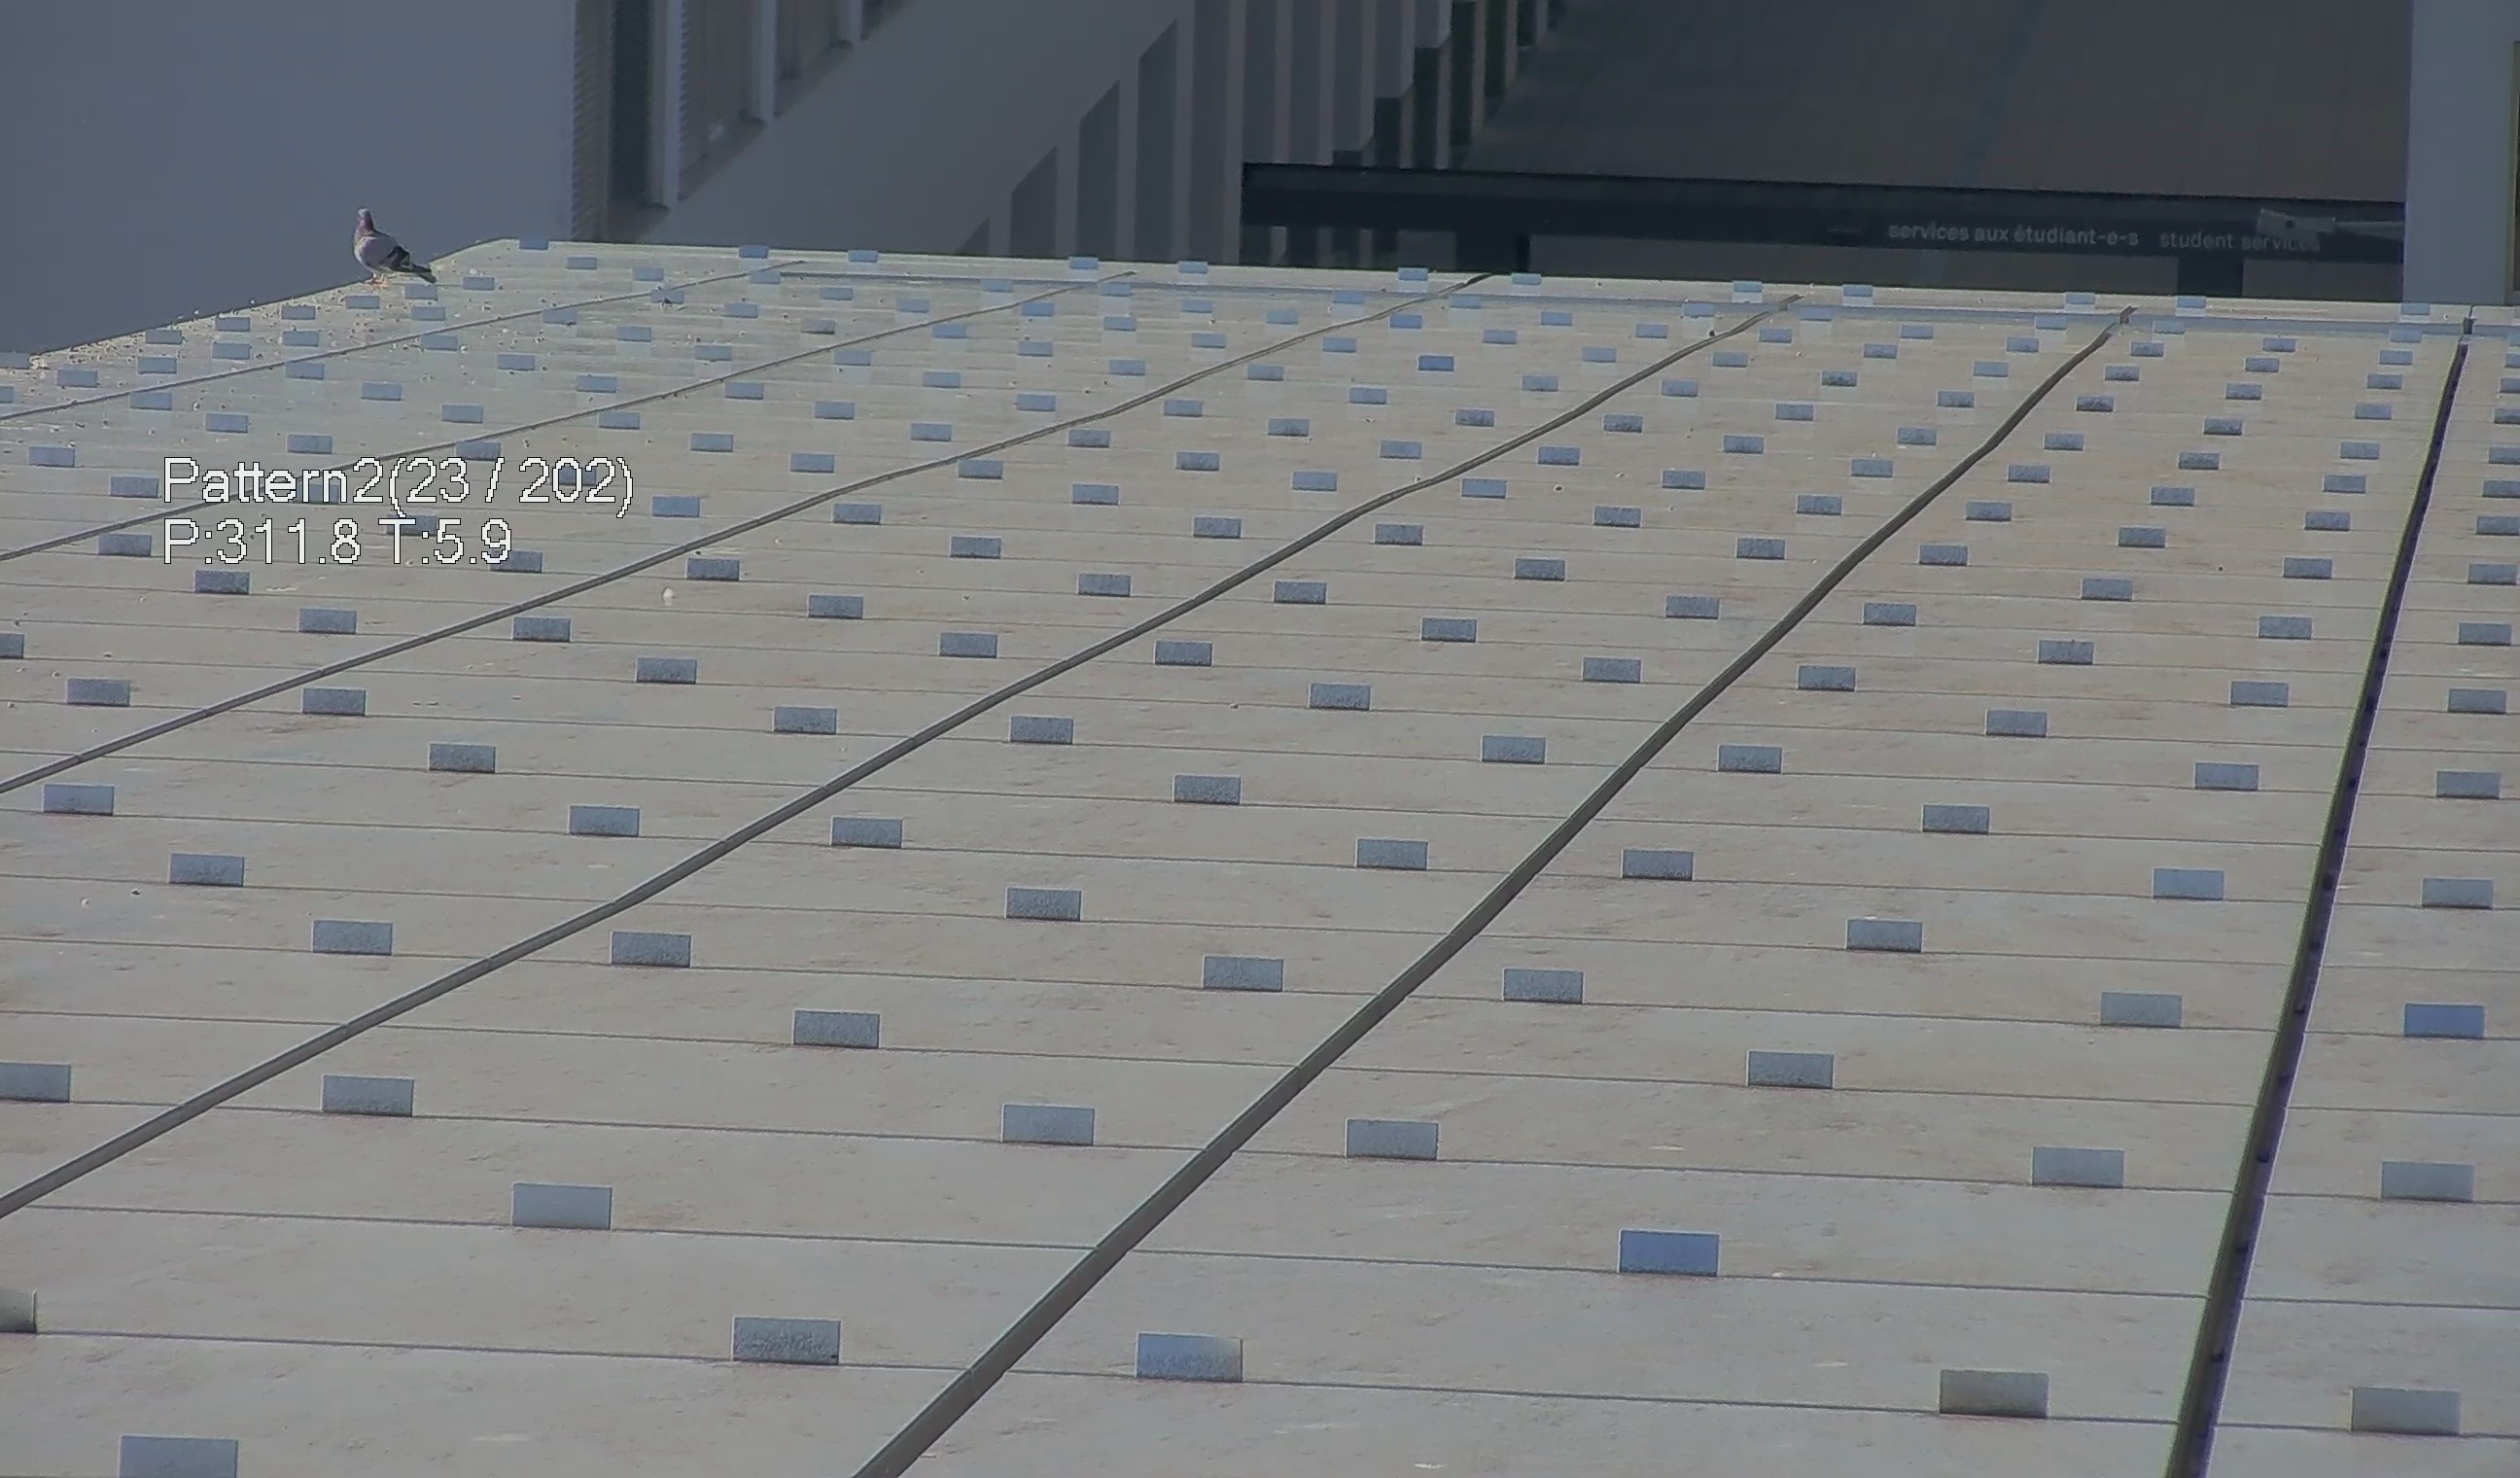Pigeon: (332, 192, 438, 294)
